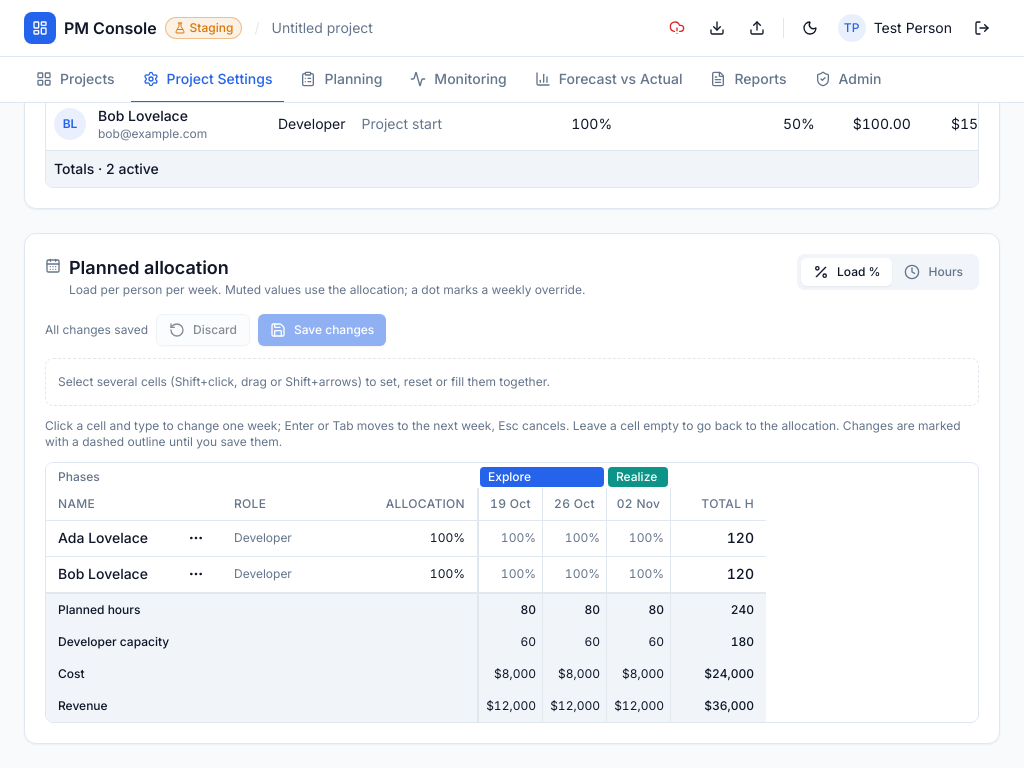
Test: Planned allocation grid › Escape cancels an edit
(page scrolled)
Click the 3rd cell "100%". click: (510, 538)
box: [478, 520, 542, 556]
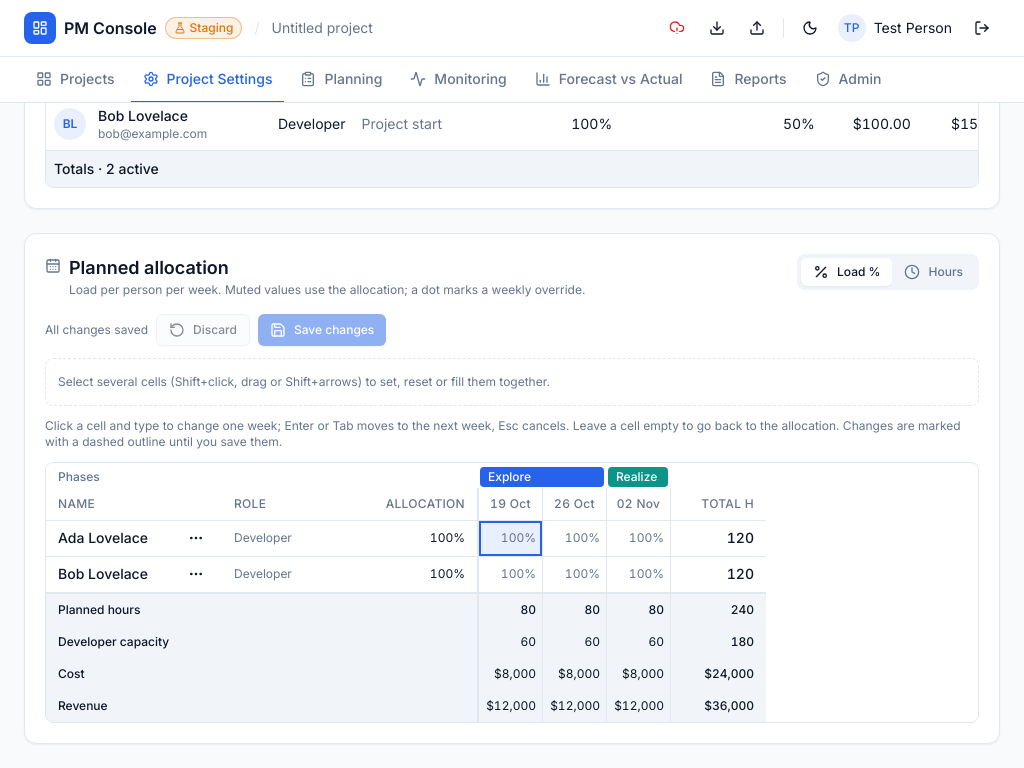
Type keys "7"
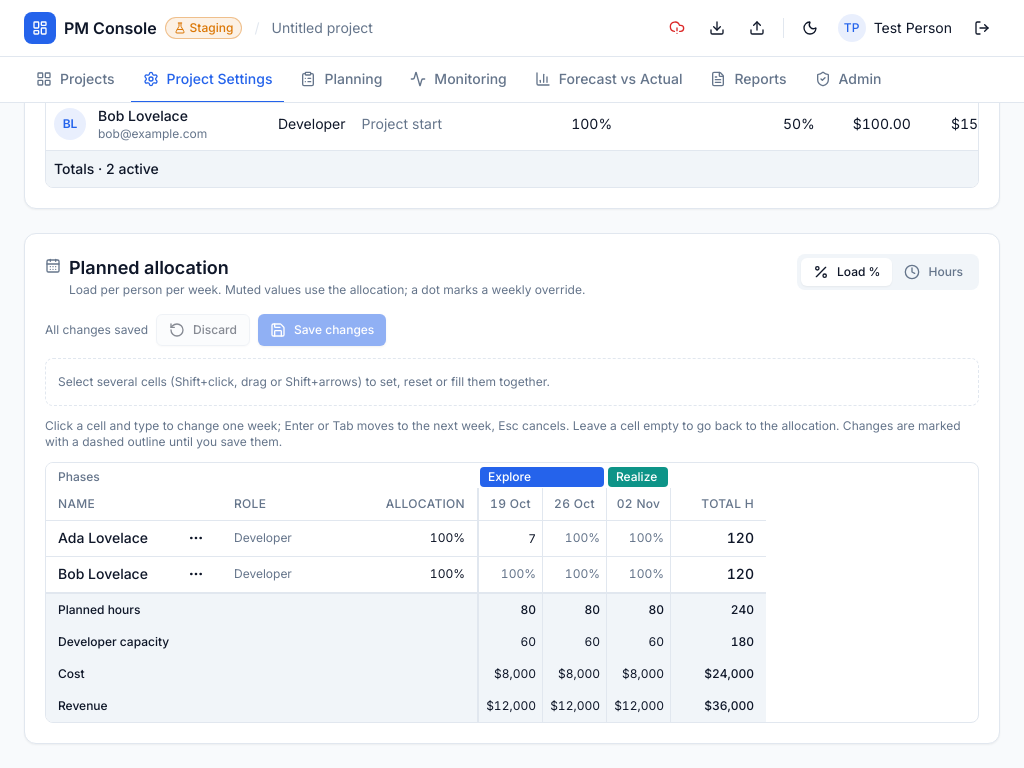
Result: the field holds "7" at [479, 520, 542, 556]
Press Escape
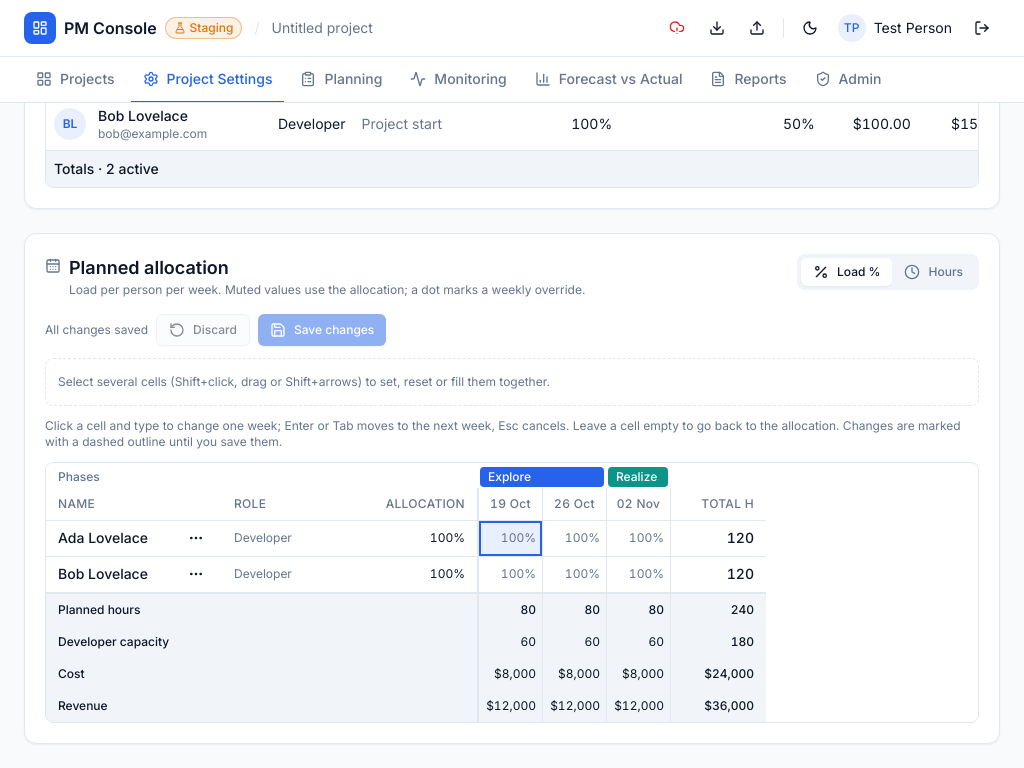
Expected: the text "All changes saved" is shown, [45, 322, 148, 338]
Result: the field is gone
